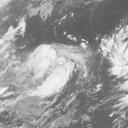cyclone: (29, 43, 79, 98)
